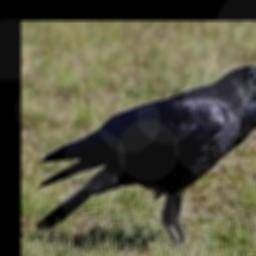Crow: (36, 65, 256, 247)
